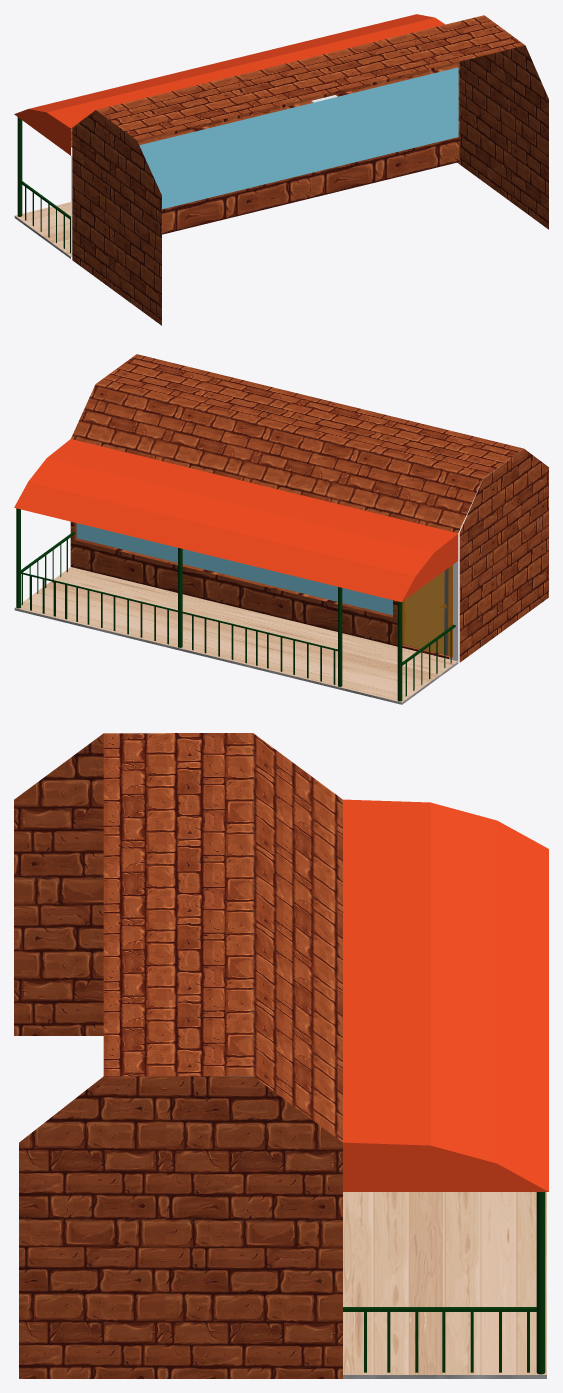
The model's file is building_eatery_coloured.fbx.
The picture shows the model from 3 angles, top to bottom: view 1: azimuth 30°, elevation 25°; view 2: azimuth 150°, elevation 25°; view 3: azimuth 270°, elevation 25°; orthographic projection. The views are drawn at different scales.
Visible parts, largest first — view 1: eatery; view 2: eatery; view 3: eatery.
Boxes of the visible parts, x1,y1,x2,y2 form: eatery: (14,14,548,325); eatery: (14,354,548,704); eatery: (14,733,548,1378).
Size of the model in its own units: 853 by 351 by 562.
Materials: 1 (1 with a texture image).
